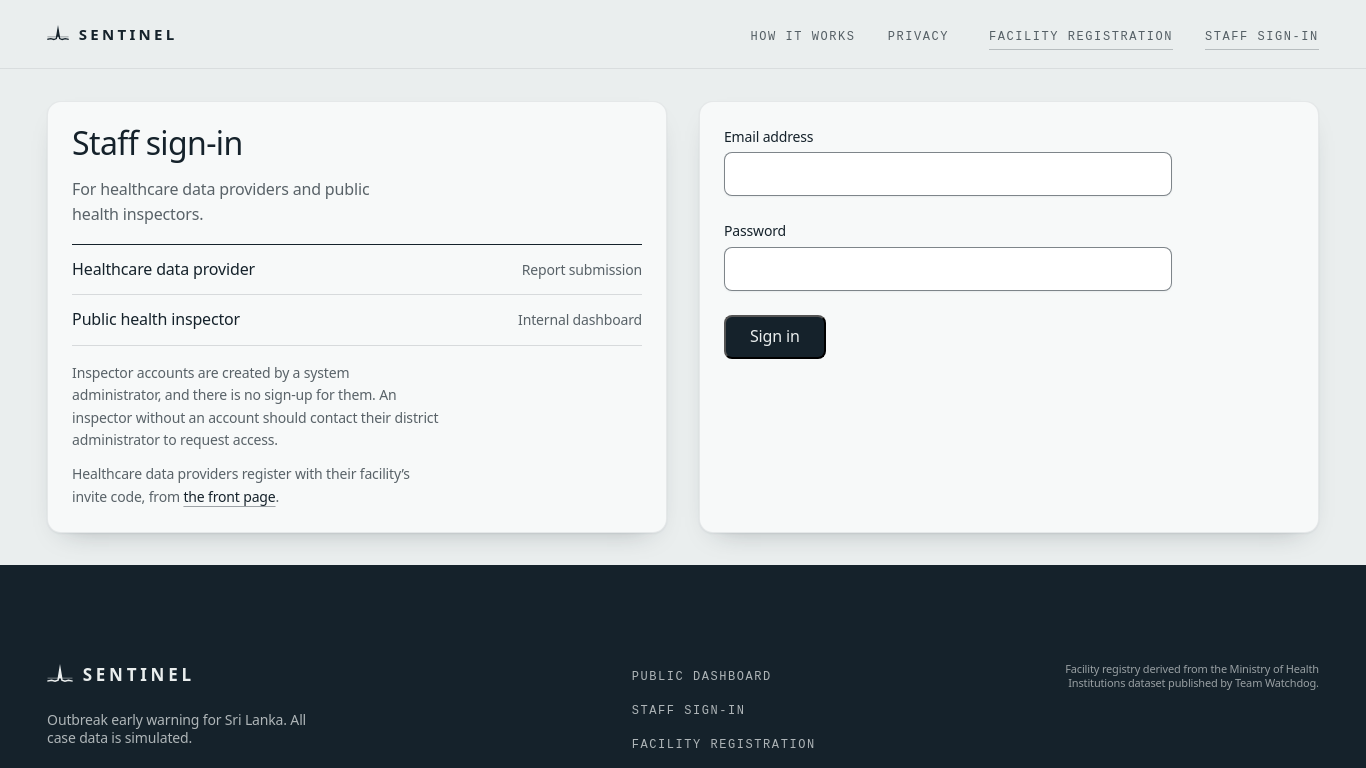
Scenario: SignInPage › sends a signed-out visitor to sign in, then back where they were going
This screenshot has width=1366, height=768.
Check: the heading "Staff sign-in" is shown, box [72,121,243,164]
Type "phi@example.org" into the field labelled "Email address".
click(948, 174); type("phi@example.org")  # box [724,152,1172,196]
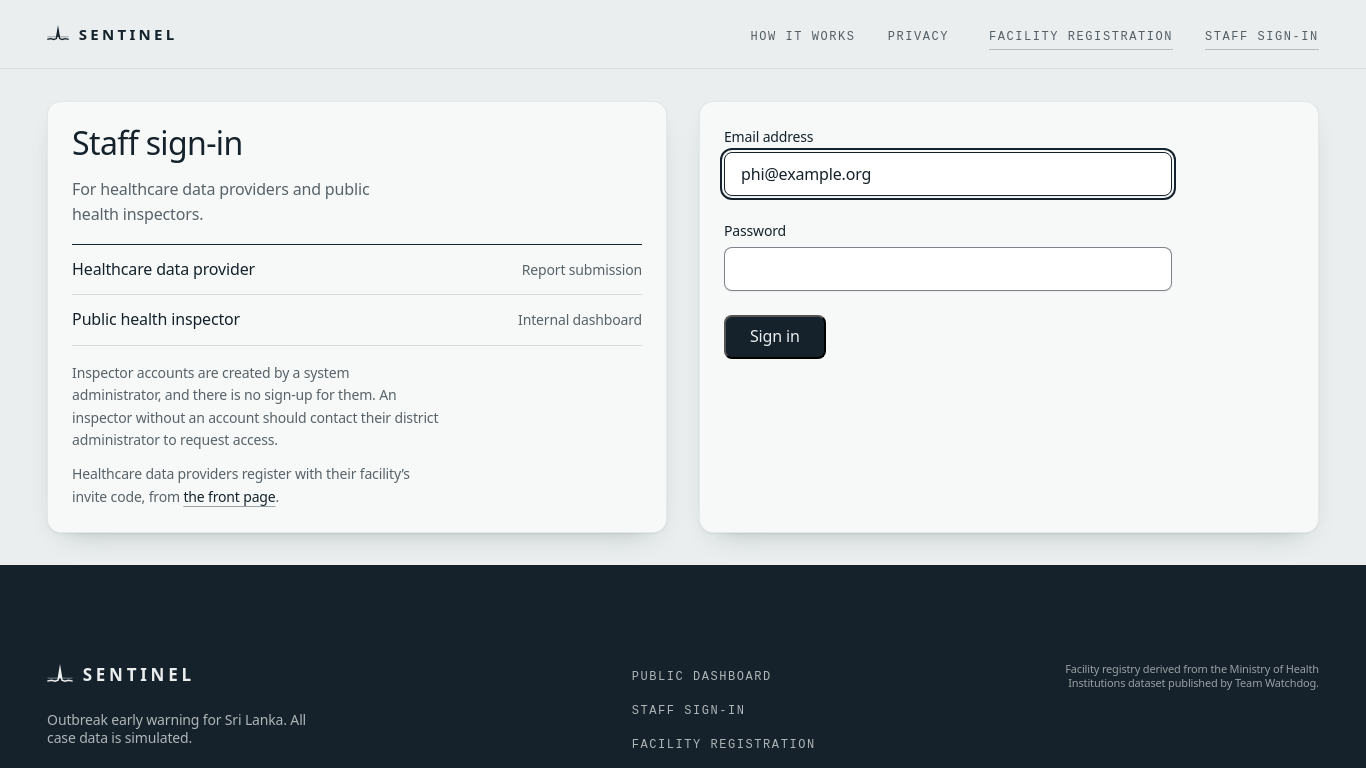
Type "the right password" into the password field labelled "Password".
click(948, 269); type("the right password")  # box [724,247,1172,291]
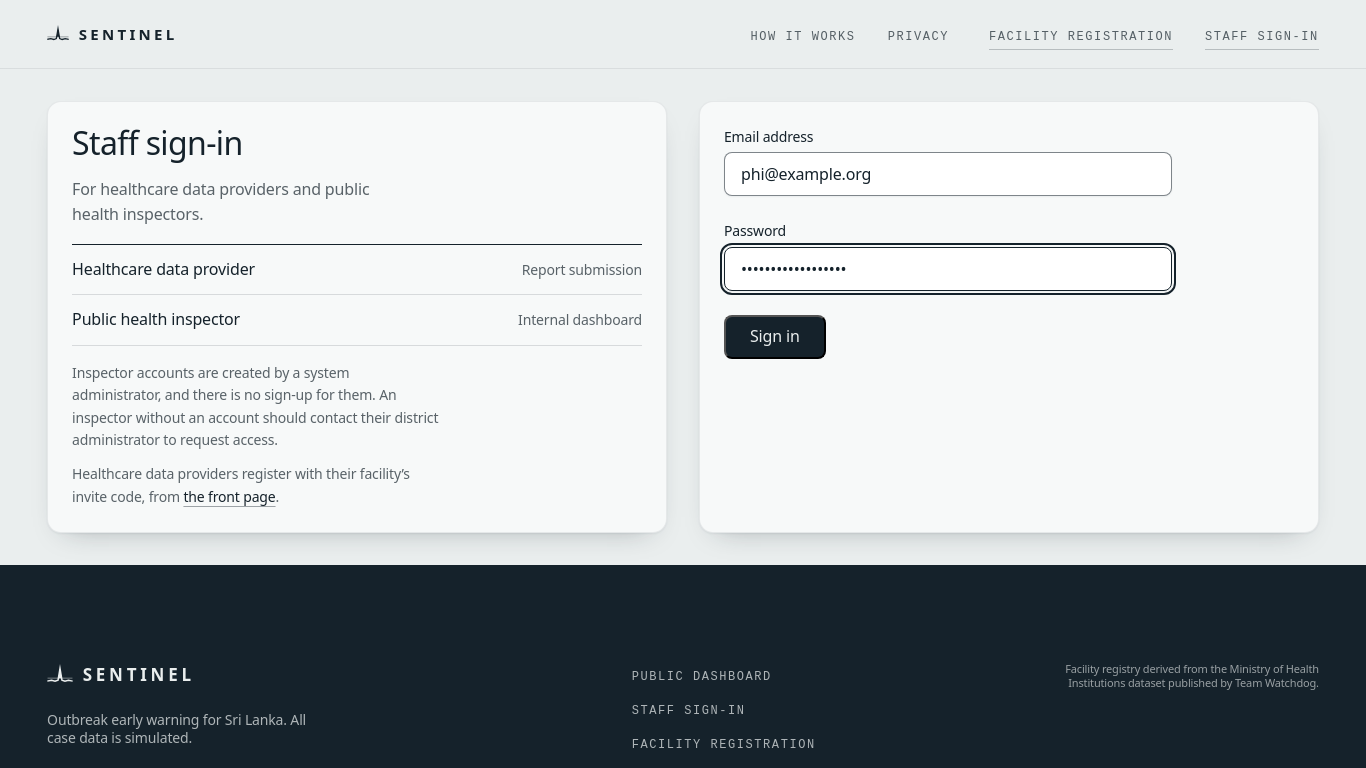
Click the button "Sign in".
click(775, 337)  # box [724,315,826,359]
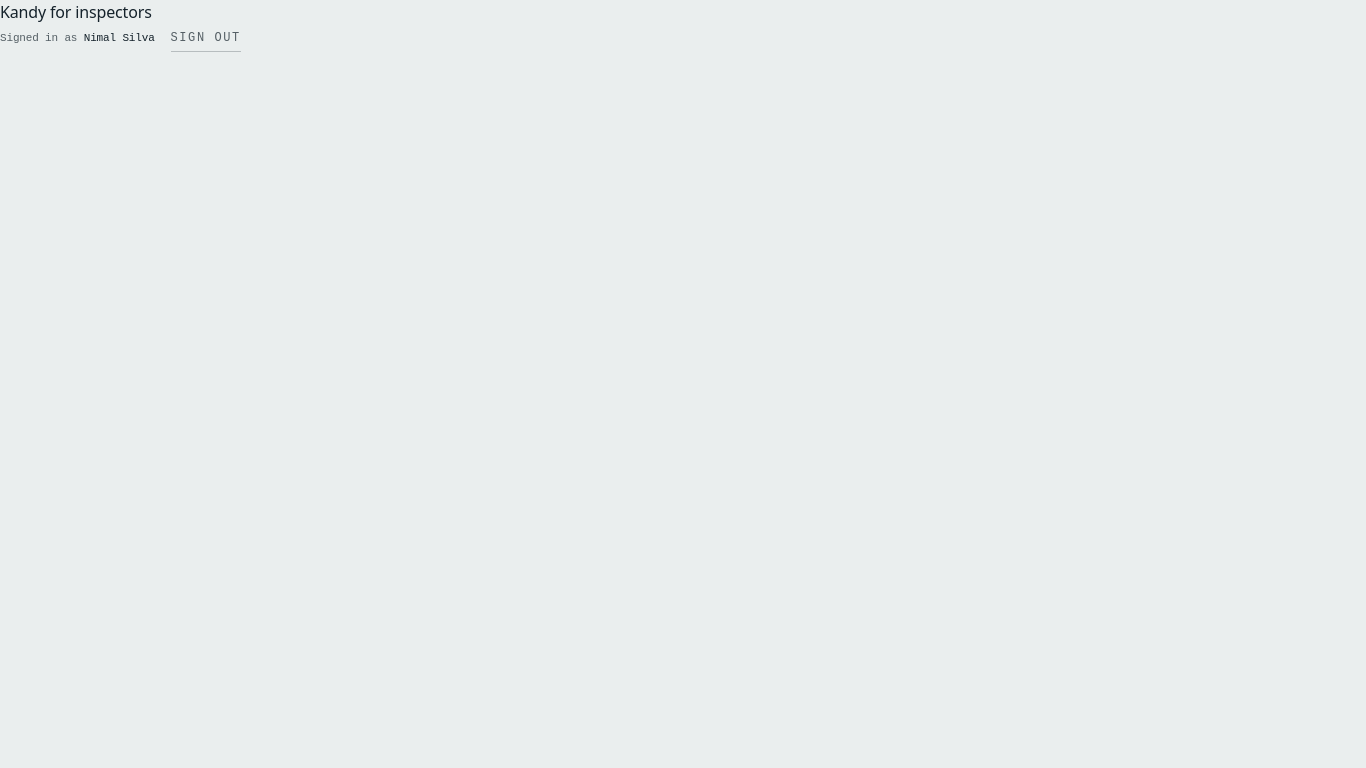
Check: the text "Kandy for inspectors" is shown, box [0,1,152,23]
